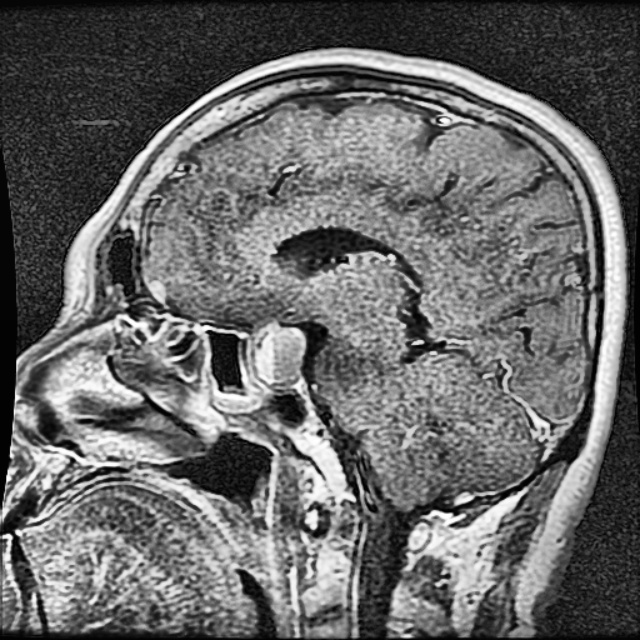Pituitary: (253, 324, 304, 380)
